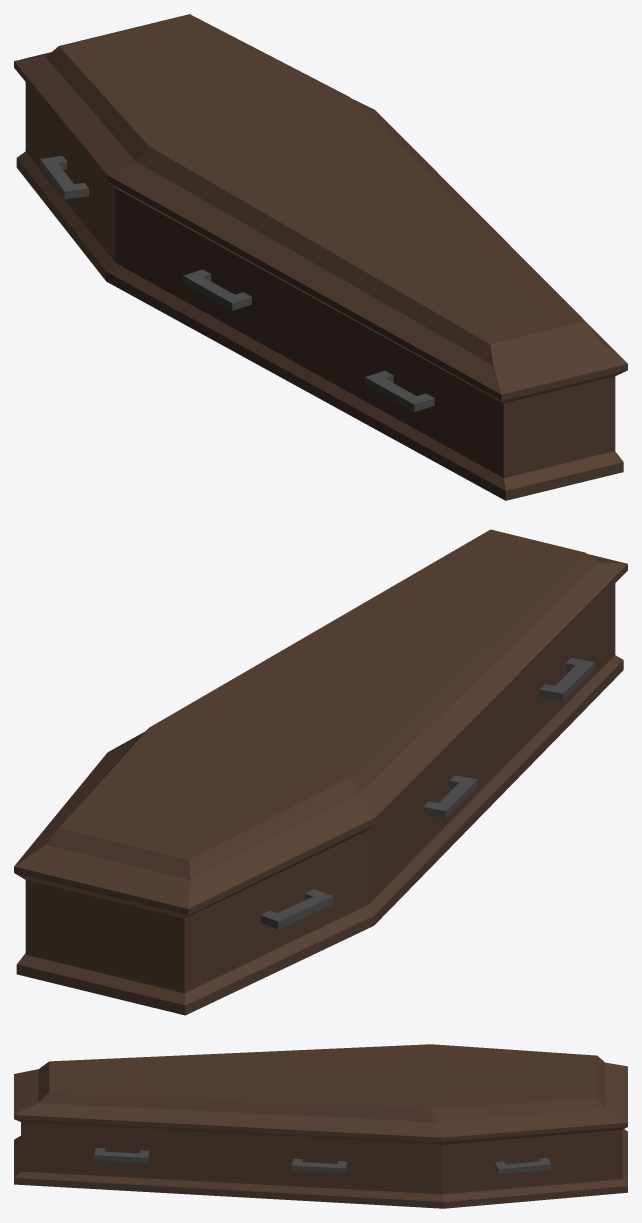
The model's file is S_Coffin.fbx.
3 views of the same model, one above another, from view 1: azimuth 30°, elevation 25°; view 2: azimuth 150°, elevation 25°; view 3: azimuth 270°, elevation 25° (orthographic). The views are drawn at different scales.
Visible parts, largest first — view 1: S_Coffin; view 2: S_Coffin; view 3: S_Coffin.
Part boxes in pixels (left/top/right/bottom): S_Coffin: left=14, top=14, right=627, bottom=500; S_Coffin: left=14, top=529, right=627, bottom=1015; S_Coffin: left=14, top=1044, right=627, bottom=1208.
Bounding box in the file's own units: 100 × 47.85 × 300.
